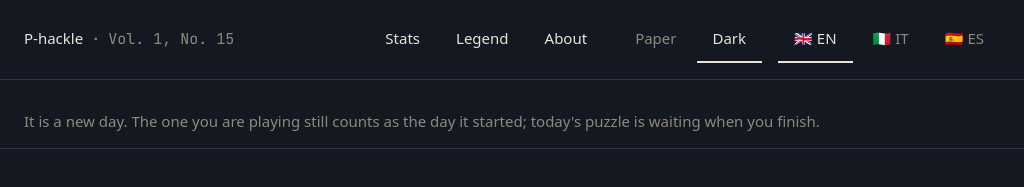
it: the mid-play midnight notice (errors.newDay) › speaks the active locale
Expected: the message with test id "app-new-day-notice" is shown, x1=0 y1=95 x2=1023 y2=149
Click the button with aria-label "Italiano": (891,40) x1=856 y1=16 x2=925 y2=63
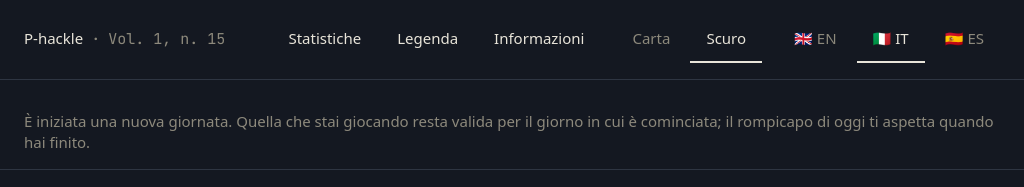
Expected: the message with test id "app-new-day-notice" no longer shows "It is a new day. The one you are playing still counts as the day it started; today's puzzle is waiting when you finish."
